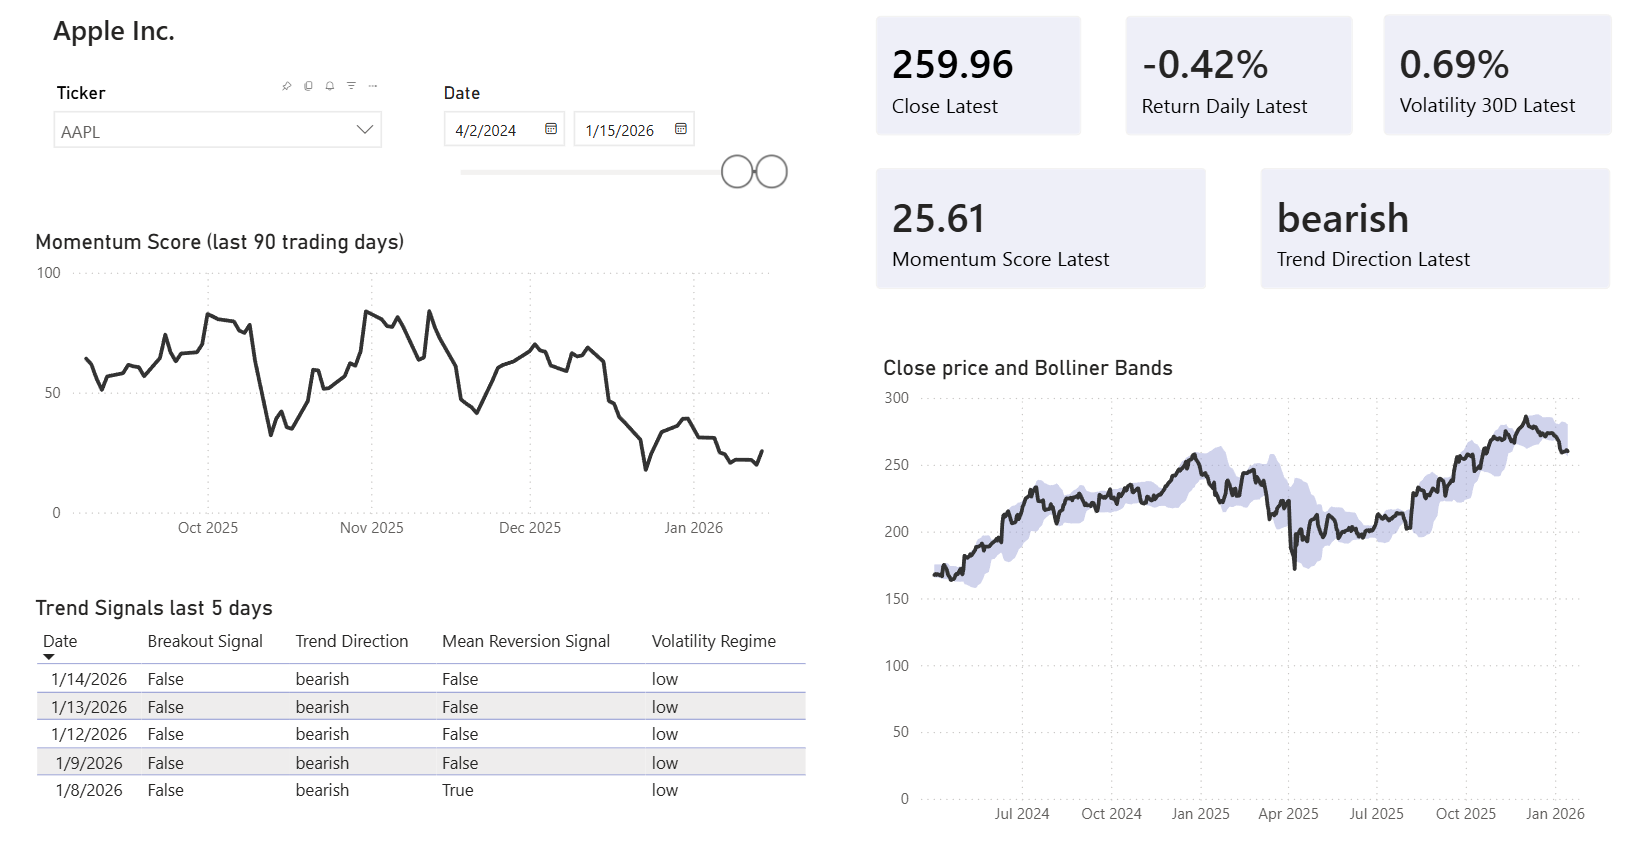

The page's visual inventory and layout, read from the dashboard file:
{"tool":"powerbi","page":{"name":"Overview","canvas":[1280,720],"ordinal":0},"visuals":[{"type":"cardVisual","title":"Return Daily Latest","fields":{"Data":["gold_stock_daily_indicators.Return Daily Latest"]},"box":[860.5,10.1,214.3,129.7],"z":0,"group":"g1"},{"type":"cardVisual","title":"Volatility 30D latest","fields":{"Data":["gold_stock_daily_indicators.Volatility 30D Latest"]},"box":[1064.6,9,215.4,130.8],"z":1000,"group":"g1"},{"type":"slicer","title":"Date Filter","fields":{"Values":["dim_date.Date"]},"box":[325,75,293.8,155],"z":1500},{"type":"cardVisual","title":"Momentum Score","fields":{"Data":["gold_stock_daily_indicators.Momentum Score Latest"]},"box":[663.1,130.8,296.6,130.8],"z":2000,"group":"g1"},{"type":"stackedAreaChart","title":"Close price and Bolliner Bands","fields":{"Category":["gold_stock_daily_indicators.date"],"Y":["Sum(gold_stock_daily_indicators.bb_lower)","gold_stock_daily_indicators.BB_Band_Bottom","gold_stock_daily_indicators.BB_Band_Top"]},"box":[681.2,295.5,575.2,381.2],"z":2000},{"type":"cardVisual","title":"Trend direction latest","fields":{"Data":["gold_stock_daily_indicators.Trend Direction Latest"]},"box":[967.6,130.8,311.3,130.8],"z":3000,"group":"g1"},{"type":"lineChart","title":"Momentum Score (last 90 trading days)","fields":{"Category":["gold_stock_trend_signals.date"],"Y":["Sum(gold_stock_trend_signals.momentum_score)"]},"box":[10,196.2,608.8,253.8],"z":3000},{"type":"cardVisual","title":"Close latest","fields":{"Data":["gold_stock_daily_indicators.Close Latest"]},"box":[663.1,10.1,197.4,129.7],"z":4000,"group":"g1"},{"type":"tableEx","title":"Trend Signals last 5 days","fields":{"Values":["gold_stock_trend_signals.date","gold_stock_trend_signals.breakout_signal","gold_stock_trend_signals.trend_direction","gold_stock_trend_signals.mean_reversion_signal","gold_stock_trend_signals.volatility_regime"]},"box":[10.1,486.1,630.4,190.6],"z":4000},{"type":"group","id":"g1","title":"Cards","box":[663.1,9,616.9,252.6],"z":5000},{"type":"slicer","title":"Ticker Filter","fields":{"Values":["dim_ticker.ticker"]},"box":[18.8,75,280,88.8],"z":5250},{"type":"cardVisual","fields":{"Data":["dim_ticker.Selected Ticker Name"]},"box":[0,0,290,75],"z":5501}]}

Visuals, with their boxes on the page's 1280x720 design canvas (x1, y1, x2, y2). These are canvas units, not pixel positions in the 1647x867 screenshot, which may show the page scaled, cropped or inside an application window:
"Return Daily Latest" cardVisual: left=860, top=10, right=1075, bottom=140
"Volatility 30D latest" cardVisual: left=1065, top=9, right=1280, bottom=140
"Date Filter" slicer: left=325, top=75, right=619, bottom=230
"Momentum Score" cardVisual: left=663, top=131, right=960, bottom=262
"Close price and Bolliner Bands" stackedAreaChart: left=681, top=296, right=1256, bottom=677
"Trend direction latest" cardVisual: left=968, top=131, right=1279, bottom=262
"Momentum Score (last 90 trading days)" lineChart: left=10, top=196, right=619, bottom=450
"Close latest" cardVisual: left=663, top=10, right=860, bottom=140
"Trend Signals last 5 days" tableEx: left=10, top=486, right=640, bottom=677
"Cards" group: left=663, top=9, right=1280, bottom=262
"Ticker Filter" slicer: left=19, top=75, right=299, bottom=164
cardVisual - dim_ticker.Selected Ticker Name: left=0, top=0, right=290, bottom=75
